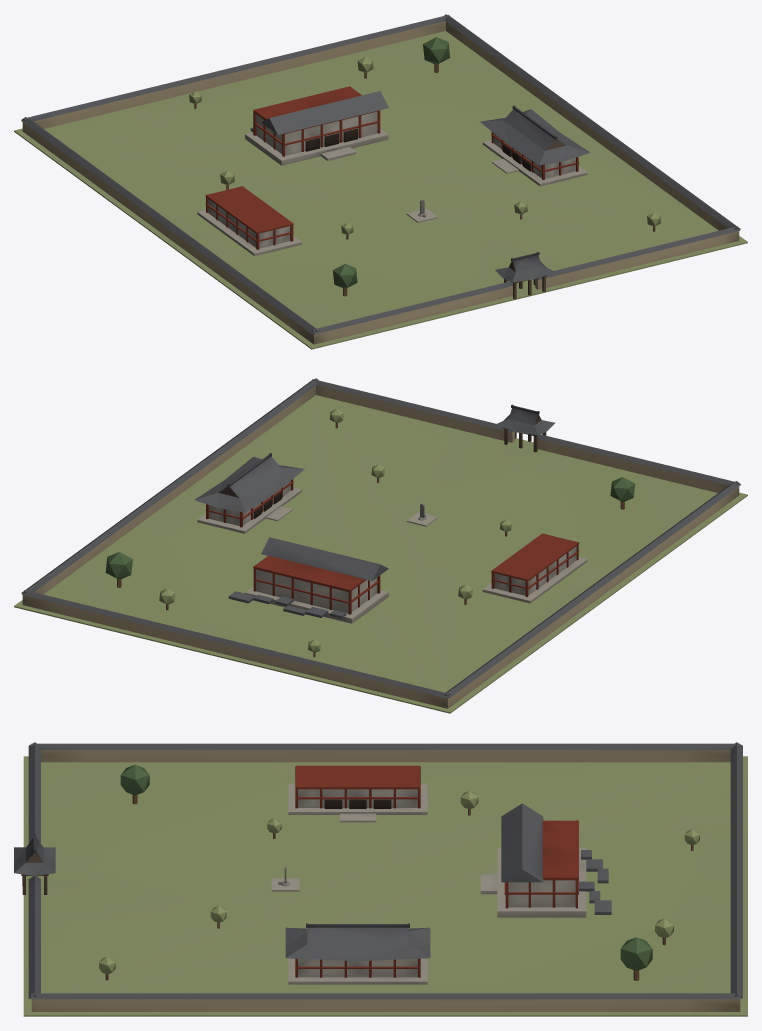
The model's file is daqin-880.glb.
3 views of the same model, one above another, from view 1: azimuth 30°, elevation 25°; view 2: azimuth 150°, elevation 25°; view 3: azimuth 270°, elevation 25° (orthographic). The views are drawn at different scales.
Visible parts, largest first — view 1: p0_walls, p1_stele, p2_trees; view 2: p0_walls, p1_stele, p2_trees; view 3: p0_walls, p1_stele, p2_trees.
Boxes of the visible parts, box(x1,y1,x2,y2) form: p0_walls: box(14, 14, 747, 349); p1_stele: box(197, 86, 587, 299); p2_trees: box(189, 37, 661, 296); p0_walls: box(14, 378, 747, 713); p1_stele: box(197, 404, 587, 623); p2_trees: box(105, 409, 635, 657); p0_walls: box(23, 742, 747, 1016); p1_stele: box(14, 765, 586, 984); p2_trees: box(99, 764, 699, 980).
Bounding box in the file's own units: 110 × 10.15 × 132.
